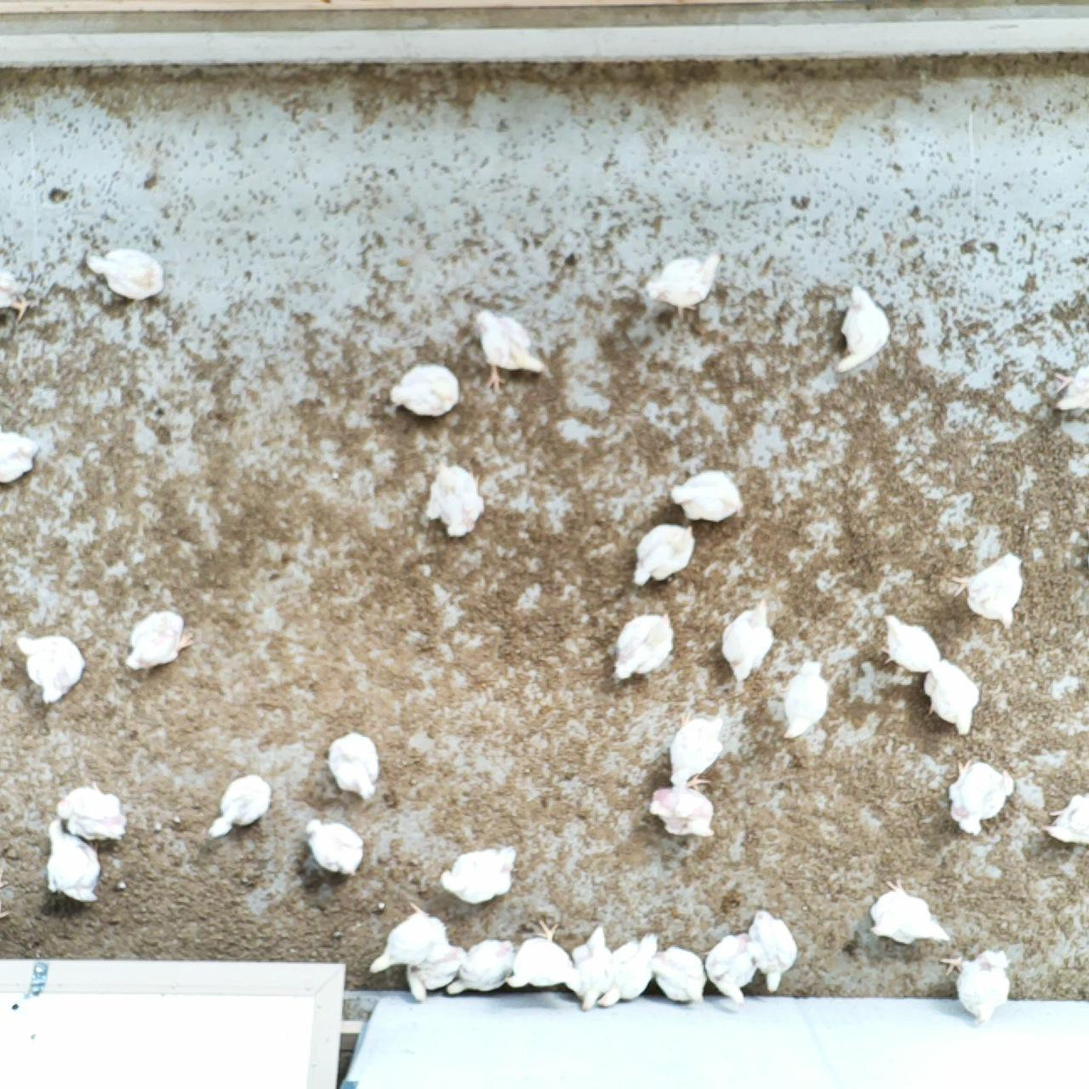chicken: (477, 308, 547, 393), (951, 553, 1022, 629), (869, 878, 952, 943), (941, 949, 1012, 1023), (947, 759, 1015, 834), (835, 284, 891, 374), (372, 902, 448, 968), (646, 251, 719, 317), (504, 923, 574, 990), (598, 933, 659, 1007), (17, 636, 85, 702), (46, 819, 100, 902), (428, 458, 485, 536), (923, 657, 979, 735), (668, 707, 723, 786), (777, 659, 831, 739), (124, 612, 197, 671), (724, 598, 775, 682), (748, 908, 798, 993), (86, 248, 167, 299), (442, 847, 517, 902), (60, 781, 128, 840), (614, 611, 674, 677), (569, 926, 615, 1012), (446, 942, 519, 996), (706, 932, 760, 1005), (207, 774, 271, 835), (879, 614, 944, 674), (405, 942, 471, 1001), (652, 777, 716, 837), (631, 526, 696, 585), (325, 731, 378, 800), (671, 471, 742, 522), (393, 363, 459, 415), (307, 819, 365, 877), (651, 945, 706, 1003), (1042, 795, 1089, 844), (0, 429, 39, 483), (0, 271, 28, 319)
